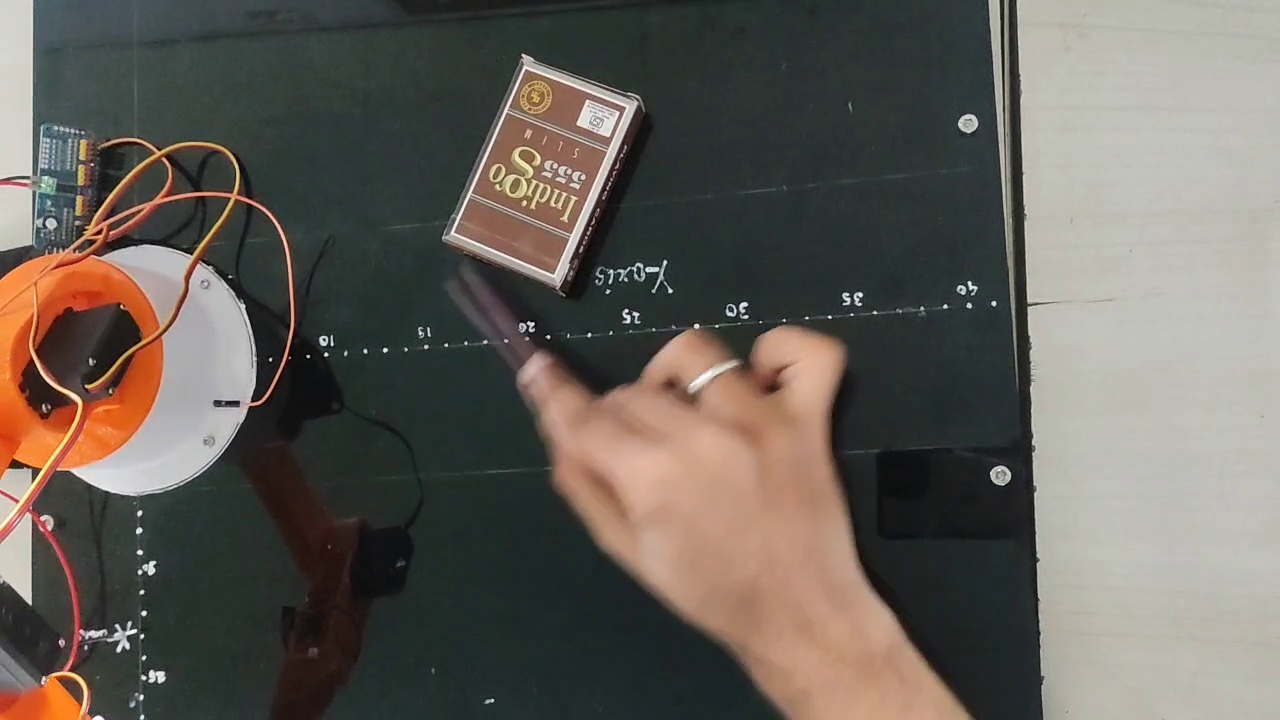BEX: (451, 62, 632, 278)
